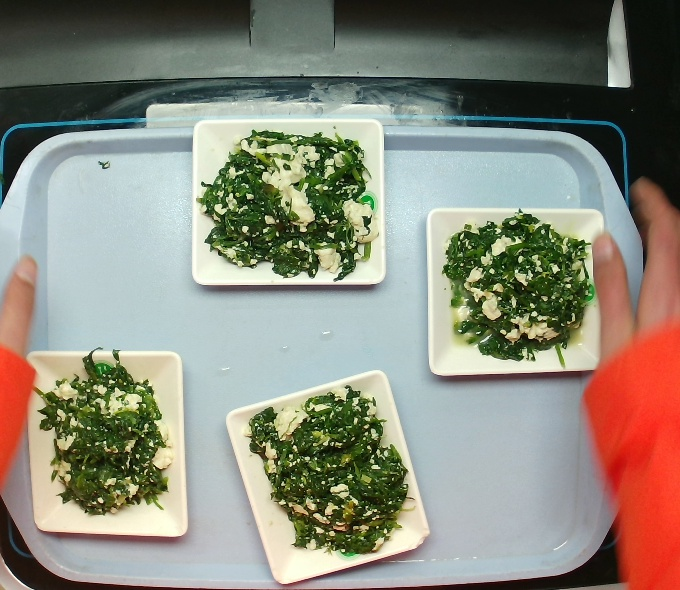wcq-QinCaiYeDouFu: (430, 200, 601, 372), (243, 380, 406, 552), (199, 124, 377, 279), (42, 351, 176, 516)
